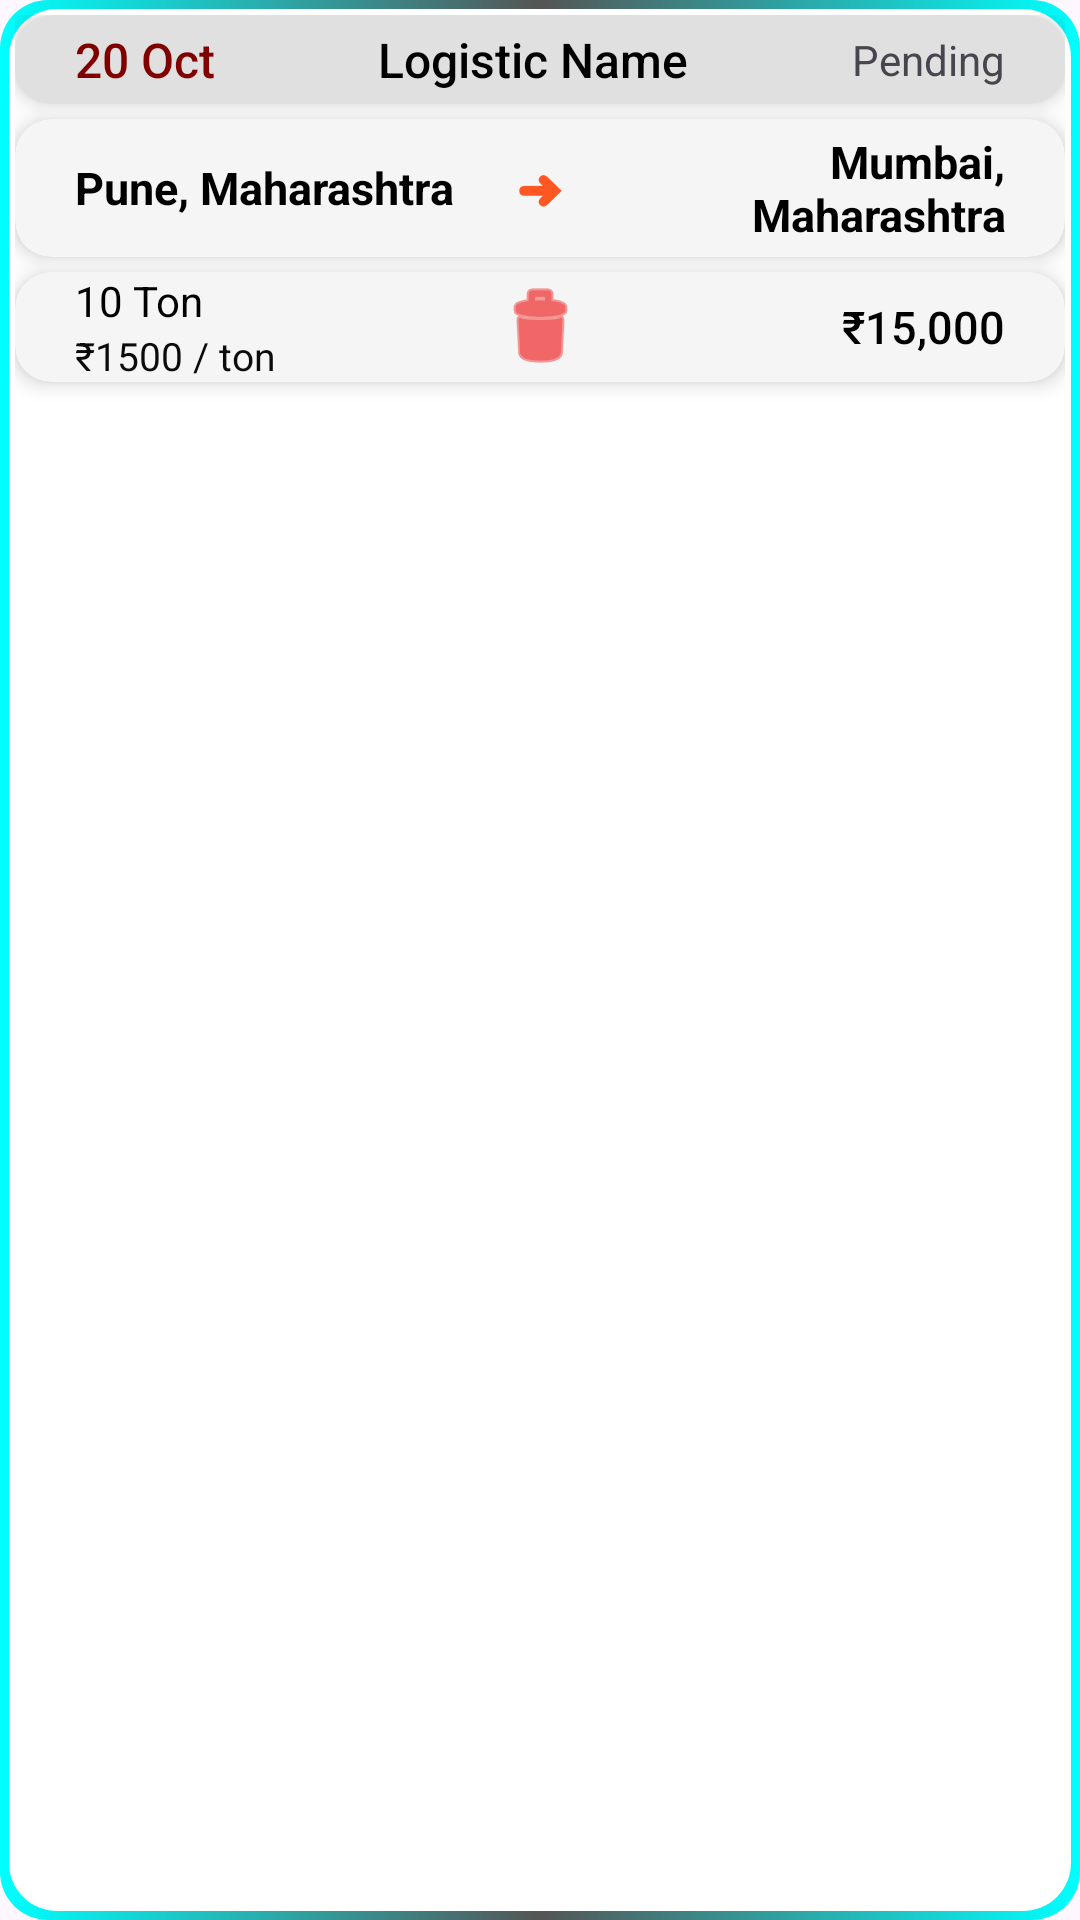

Point at icon controls on the screen. Image size 1080px x 1920px, points as (x,y).
Delete Icon: (540,325)
